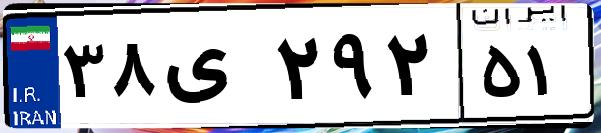1: (525, 38, 570, 115)
2: (270, 28, 330, 110), (385, 28, 445, 110)
3: (57, 26, 110, 100)
5: (475, 38, 525, 113)
8: (110, 28, 158, 98)
9: (330, 28, 385, 110)
ی: (158, 20, 270, 120)
